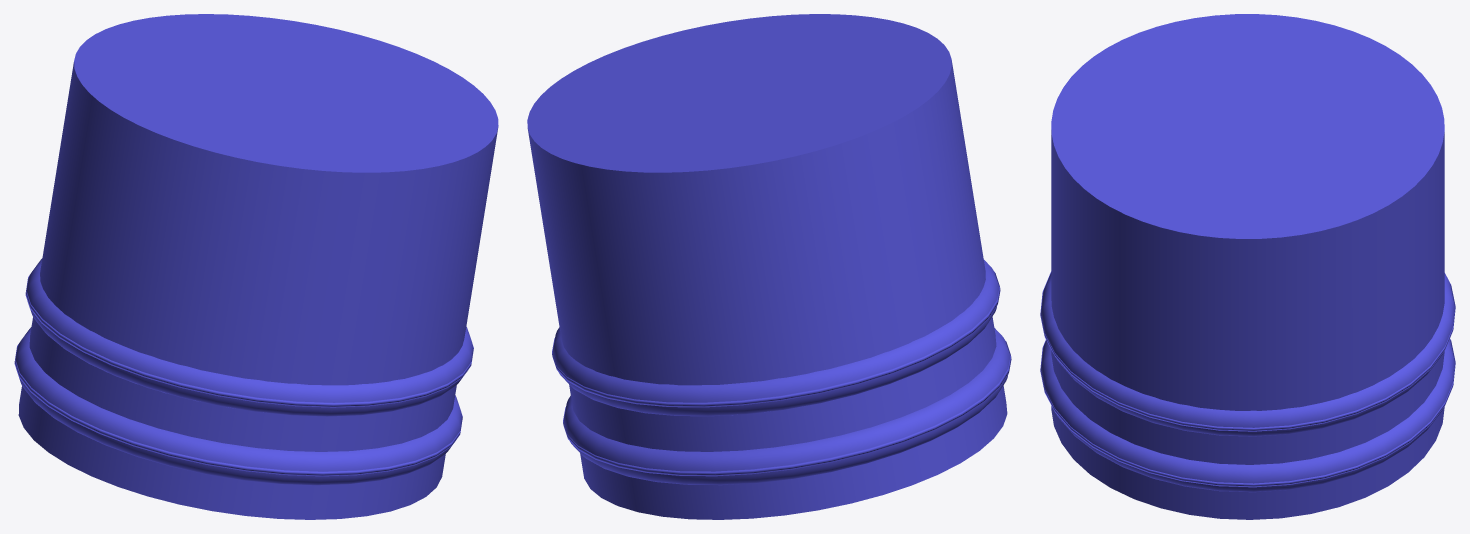
File: bombilla87.obj
The picture shows the model from 3 angles, left to right: view 1: azimuth 30°, elevation 25°; view 2: azimuth 150°, elevation 25°; view 3: azimuth 270°, elevation 25°; orthographic projection. The views are drawn at different scales.
Visible parts, largest first — view 1: Cylinder001, Cylinder004, Cylinder003, Cylinder006, Cylinder002; view 2: Cylinder001, Cylinder004, Cylinder003, Cylinder006, Cylinder002; view 3: Cylinder001, Cylinder004, Cylinder002, Cylinder003, Cylinder006.
Part boxes in pixels (x1=…): Cylinder001: x1=40, y1=14, x2=498, y2=385; Cylinder004: x1=14, y1=327, x2=462, y2=485; Cylinder003: x1=29, y1=317, x2=456, y2=451; Cylinder006: x1=18, y1=386, x2=445, y2=519; Cylinder002: x1=25, y1=258, x2=473, y2=416; Cylinder001: x1=527, y1=14, x2=985, y2=385; Cylinder004: x1=563, y1=328, x2=1011, y2=485; Cylinder003: x1=569, y1=317, x2=996, y2=451; Cylinder006: x1=580, y1=385, x2=1007, y2=519; Cylinder002: x1=552, y1=259, x2=1000, y2=416; Cylinder001: x1=1051, y1=14, x2=1444, y2=410; Cylinder004: x1=1040, y1=339, x2=1455, y2=492; Cylinder002: x1=1040, y1=271, x2=1455, y2=436; Cylinder003: x1=1051, y1=350, x2=1444, y2=464; Cylinder006: x1=1051, y1=406, x2=1444, y2=519.
Bounding box in the file's own units: 78.08 × 70.45 × 72.21.
